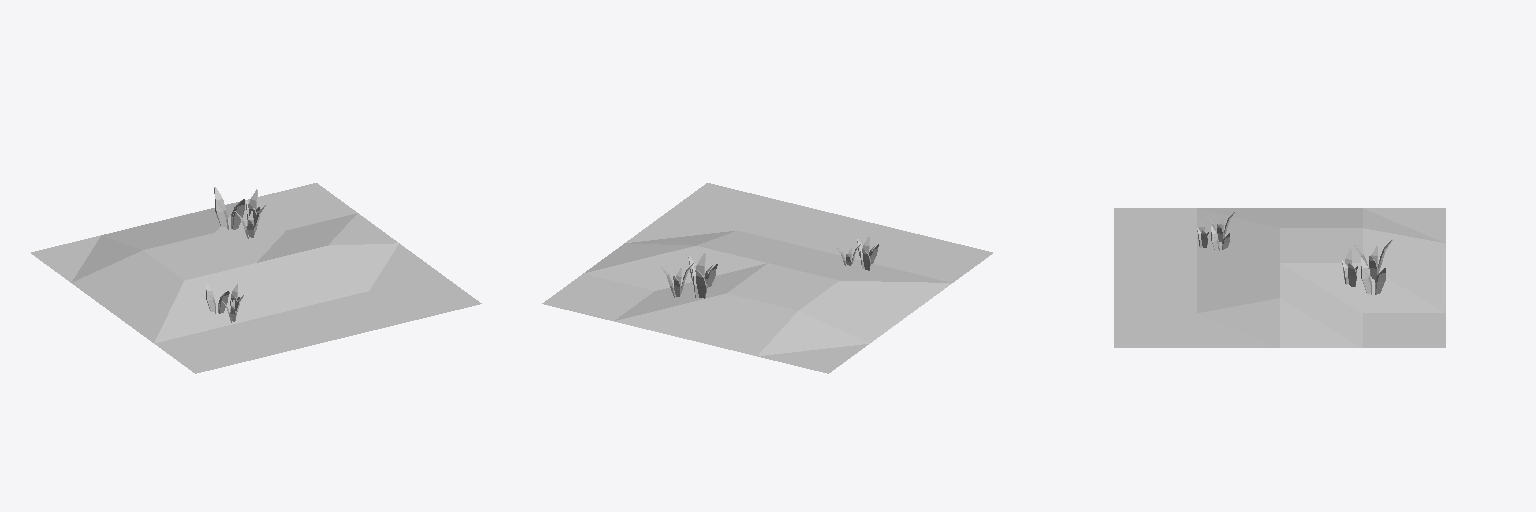
File: tile_3.obj
3 views of the same model, side by side, from view 1: azimuth 30°, elevation 25°; view 2: azimuth 150°, elevation 25°; view 3: azimuth 270°, elevation 25° (orthographic).
Parts seen in each view (by area): view 1: Cube.461_Cube.462; view 2: Cube.461_Cube.462; view 3: Cube.461_Cube.462.
Part boxes in pixels (left/top/right/bottom): Cube.461_Cube.462: left=31, top=183, right=481, bottom=373; Cube.461_Cube.462: left=542, top=183, right=992, bottom=373; Cube.461_Cube.462: left=1114, top=208, right=1445, bottom=347.
Bounding box in the file's own units: 4 × 0.6298 × 4.